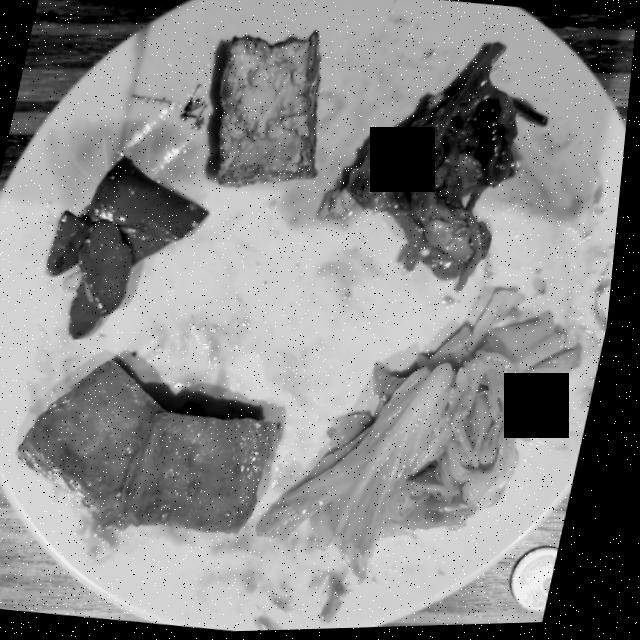cabbage: (267, 293, 588, 580)
coin: (522, 551, 569, 615)
creamy tofu: (26, 361, 282, 535)
egg tofu: (220, 33, 321, 189)
pig blood curd: (51, 158, 212, 339)
